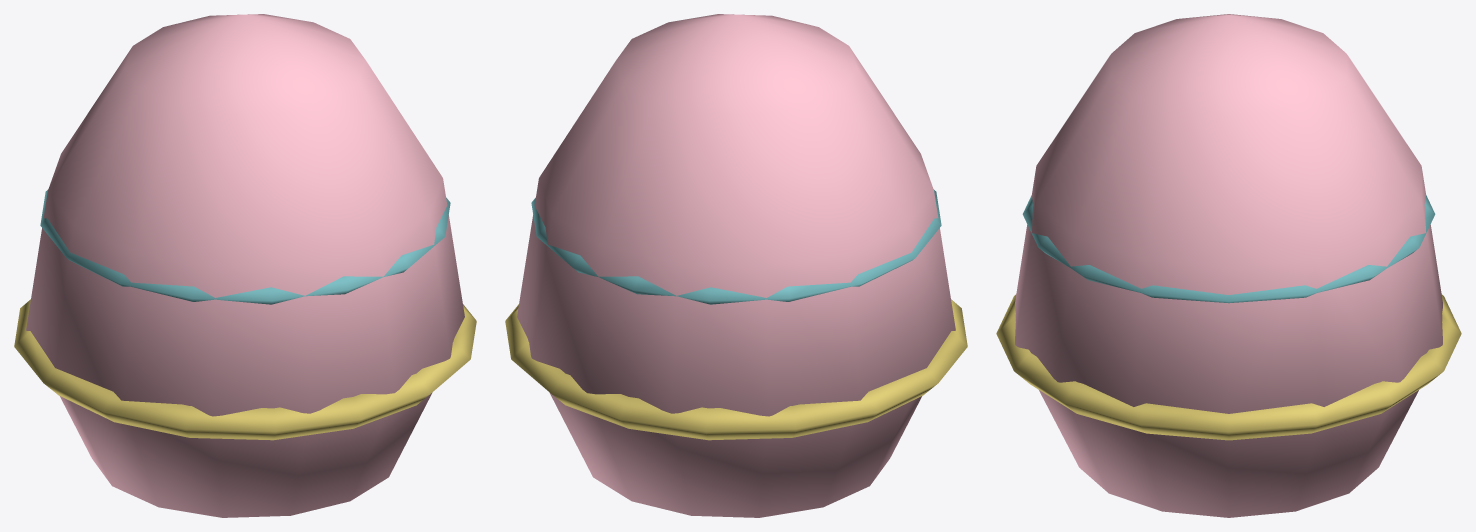
The model's file is EasterEgg.fbx.
The picture shows the model from 3 angles, left to right: view 1: azimuth 30°, elevation 25°; view 2: azimuth 150°, elevation 25°; view 3: azimuth 270°, elevation 25°; orthographic projection.
Parts seen in each view (by area): view 1: EasterEgg; view 2: EasterEgg; view 3: EasterEgg.
Part boxes in pixels (<box>): EasterEgg: <box>14,14,476,517</box>; EasterEgg: <box>505,14,967,517</box>; EasterEgg: <box>996,14,1461,517</box>.
Size of the model in its own units: 0.3604 by 0.3995 by 0.3604.
